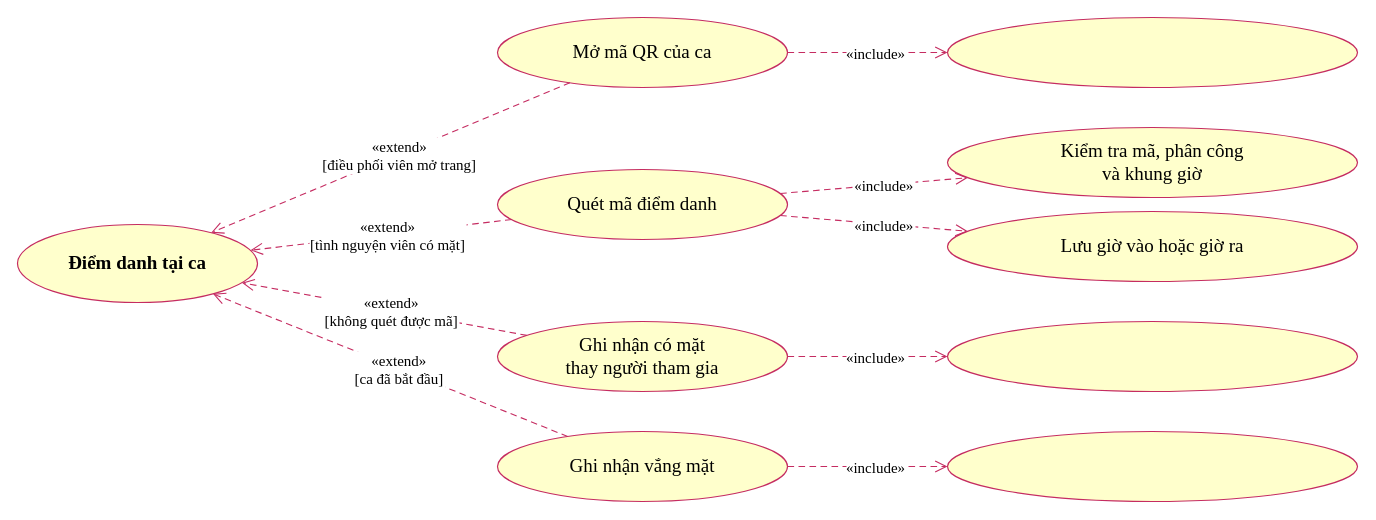
Some shapes in this 1376 by 520 pixel diagram are drawn without their labels. The box of each missing label's shape, as (x1, y1, x2, y2) in pixels:
Báo người tham gia, cập nhật mức tin cậy: (946, 430, 1358, 502)
Kiểm tra giờ nhập nằm trong khung cho phép của ca: (946, 320, 1358, 392)
Tạo mã từ khóa của ca, đổi mỗi 2 phút: (946, 16, 1358, 88)
